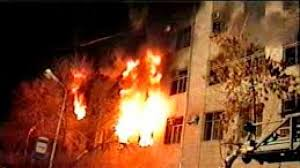fire: (93, 57, 173, 154)
